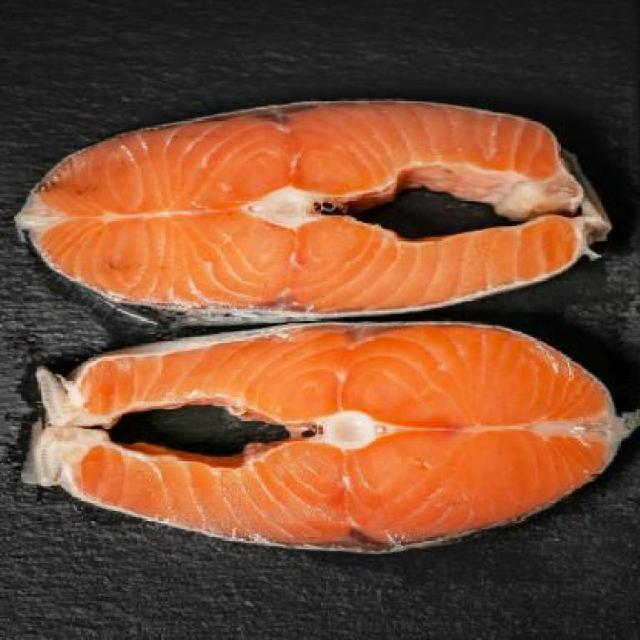salmon: (28, 318, 618, 574), (17, 100, 595, 331)
